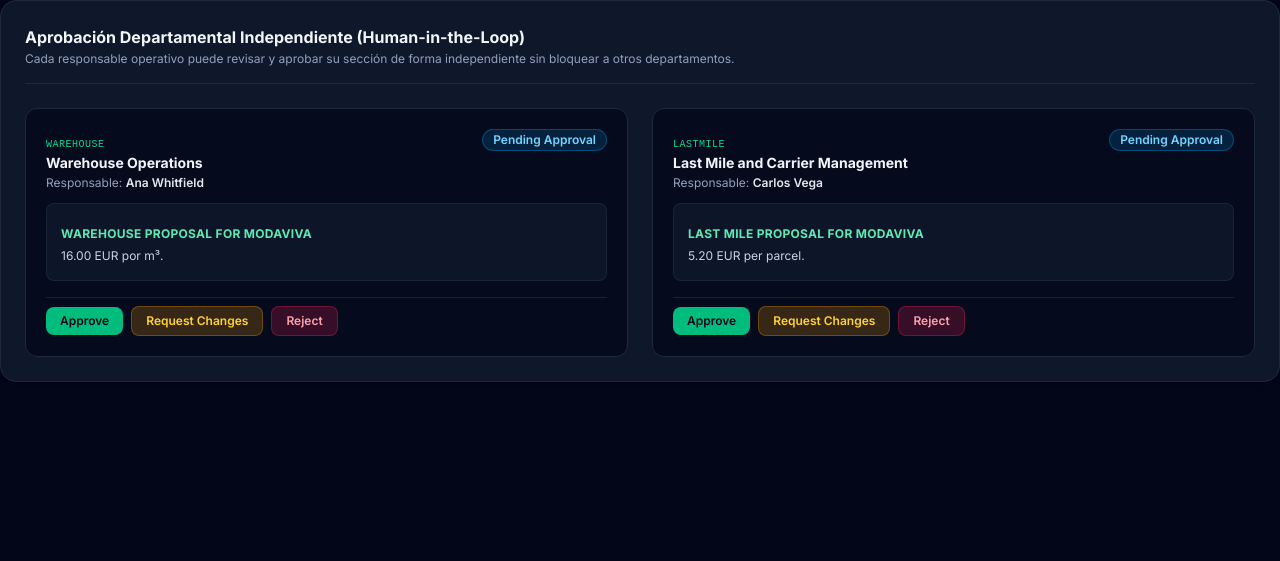
DepartmentApprovalPanel Component Tests (T028, T029 - User Story 4) › T029: enforces non-empty revision feedback when request_changes is clicked
# First click reveals feedback textarea and shows mandatory feedback message without submitting
Click the button with test id "request-changes-btn-warehouse" at (197, 320), box [131,306,263,336]
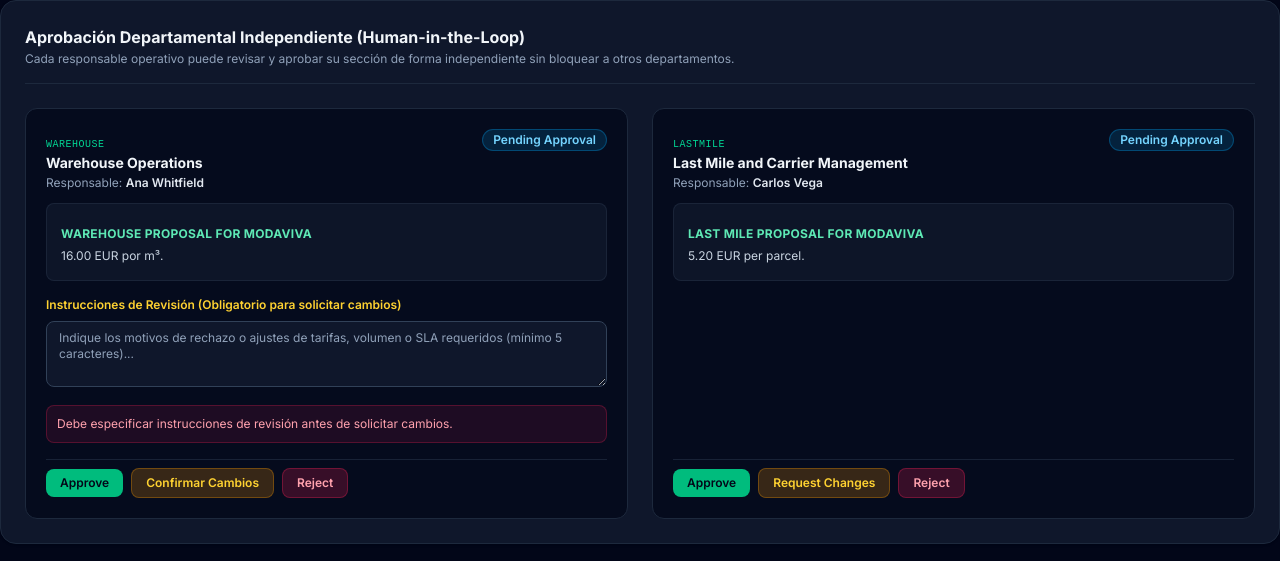
Result: the message with test id "validation-error-warehouse" shows "instrucciones de revisión" at [57,416,453,430]
Result: the text box with test id "feedback-textarea-warehouse" is shown at [46,320,607,386]
